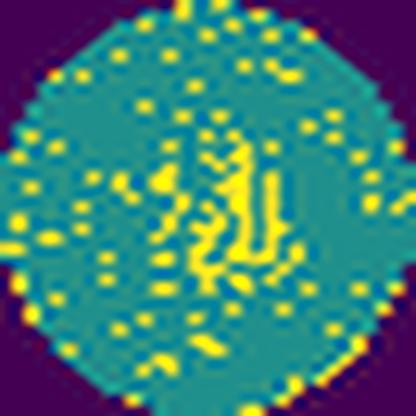Loc: (184, 128, 293, 298), (148, 158, 192, 254)
